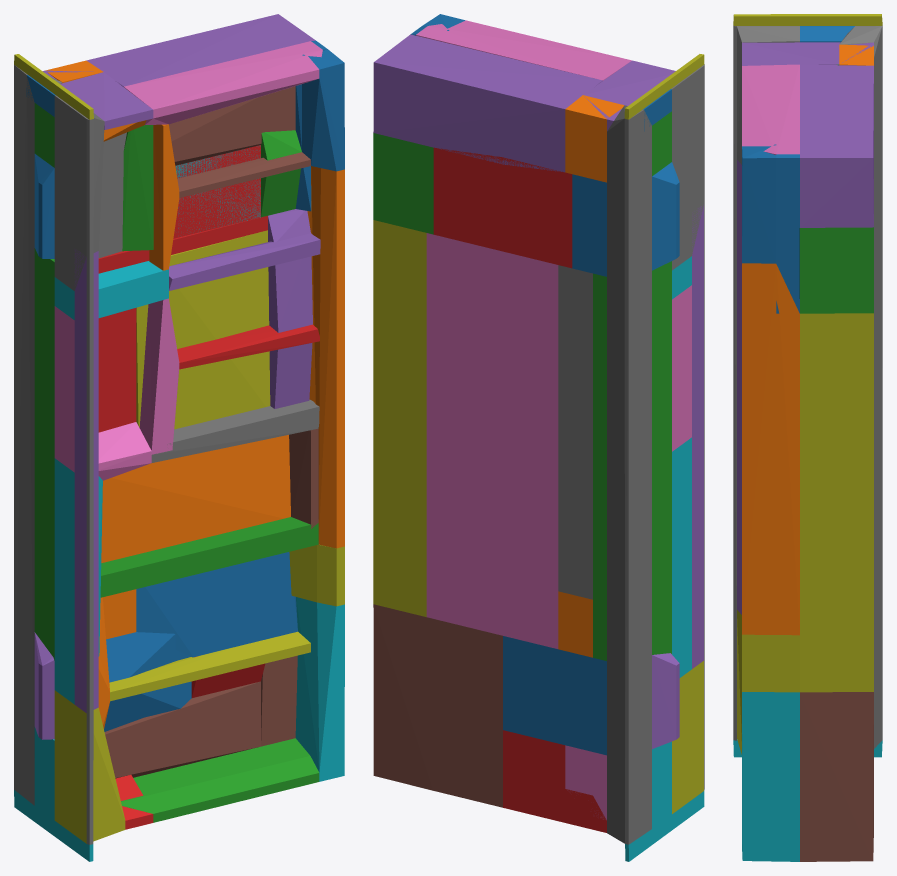
The model's file is Drawer_02_cvx.obj.
3 views of the same model, side by side, from view 1: azimuth 30°, elevation 25°; view 2: azimuth 150°, elevation 25°; view 3: azimuth 270°, elevation 25° (orthographic).
Visible parts, largest first — view 1: scenes/apartment_0000_coacd/output/Unknown/Kitchen_Oven/Drawer_0; view 2: scenes/apartment_0000_coacd/output/Unknown/Kitchen_Oven/Drawer_0; view 3: scenes/apartment_0000_coacd/output/Unknown/Kitchen_Oven/Drawer_0.
Part boxes in pixels (x1,y1,x2,y2): scenes/apartment_0000_coacd/output/Unknown/Kitchen_Oven/Drawer_0: (14,14,344,861); scenes/apartment_0000_coacd/output/Unknown/Kitchen_Oven/Drawer_0: (373,14,704,861); scenes/apartment_0000_coacd/output/Unknown/Kitchen_Oven/Drawer_0: (733,14,882,861).
Bounding box in the file's own units: 0.6287 × 1.66 × 0.303.
